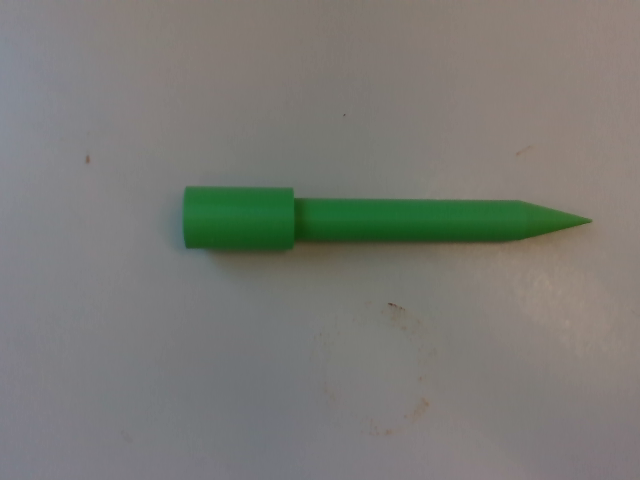Probe: (176, 177, 597, 254)
